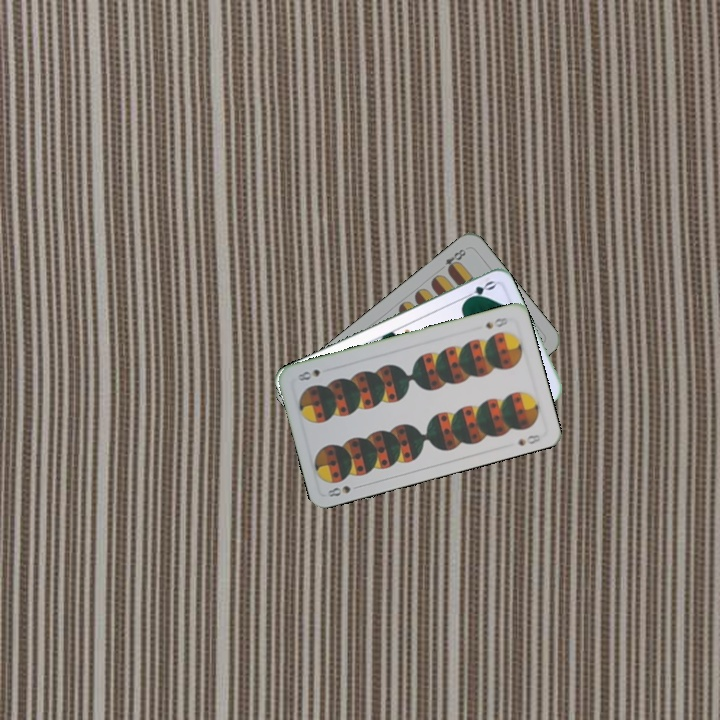E8: (441, 245, 469, 275)
GO: (459, 276, 498, 305)
S8: (323, 481, 364, 499), (481, 313, 510, 331)
